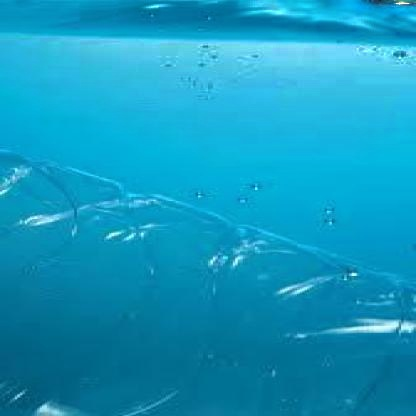pbottle: (2, 143, 414, 416)
